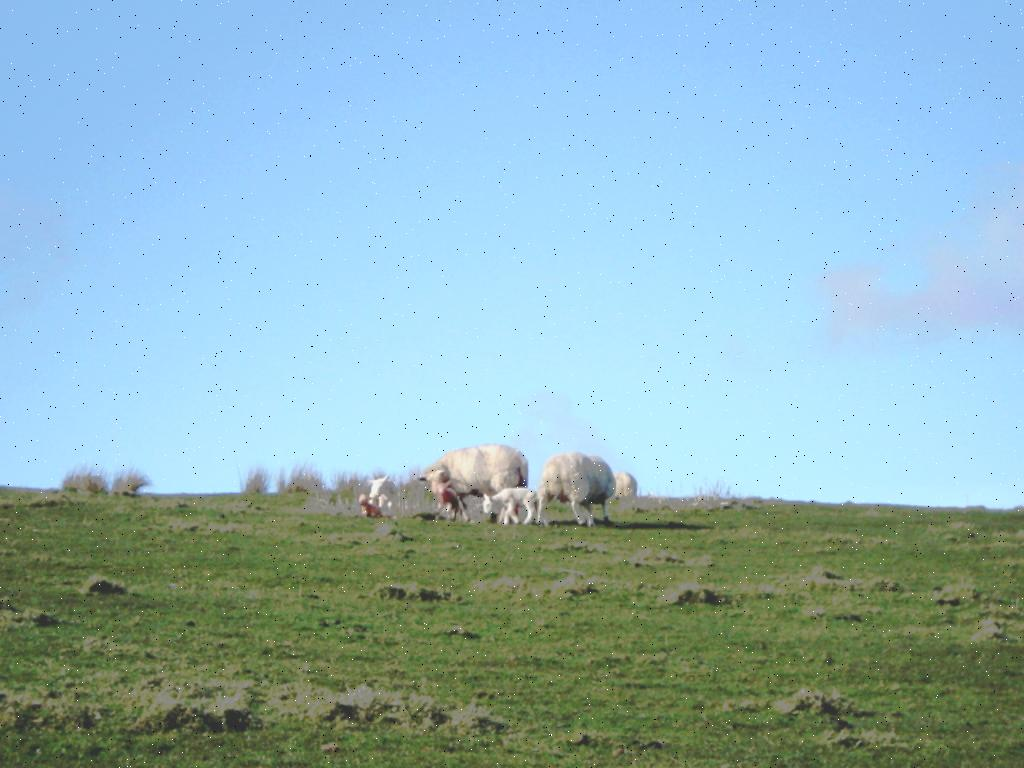Sheep: (418, 444, 528, 518), (536, 448, 618, 531), (482, 488, 542, 525), (366, 472, 394, 506), (355, 480, 379, 517)
